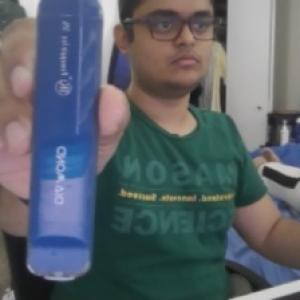Diamond-E-Ciggirate: (23, 0, 106, 281)
